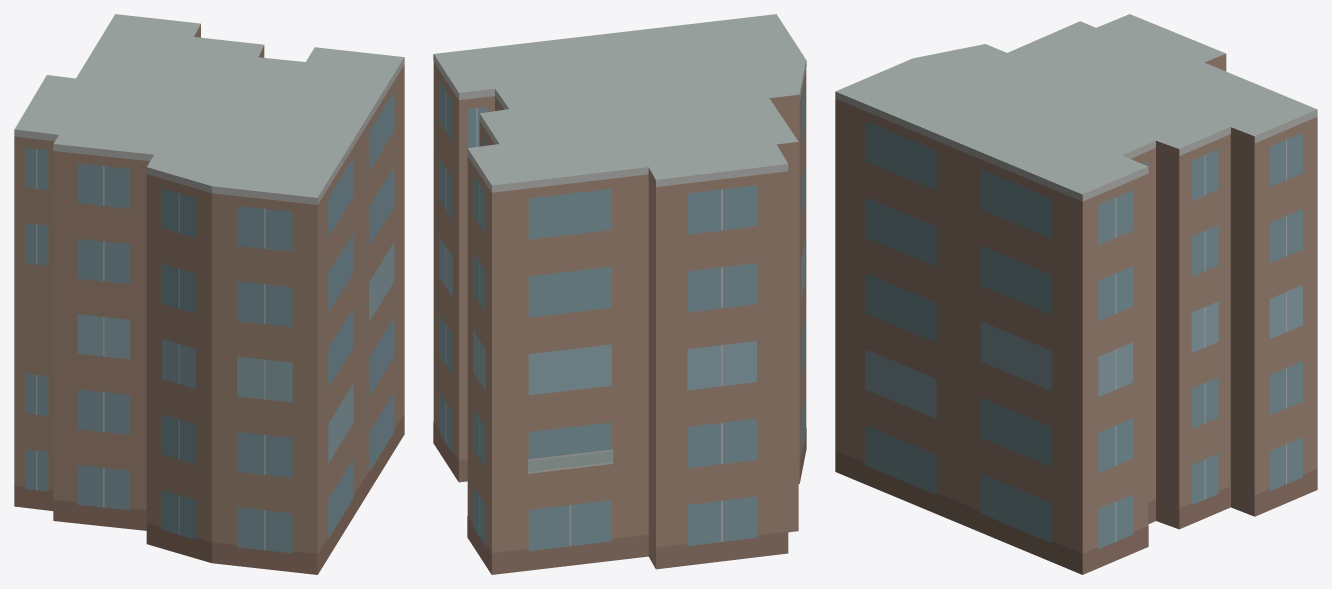
The model's file is survey-upis-32741901.glb.
The picture shows the model from 3 angles, left to right: view 1: azimuth 30°, elevation 25°; view 2: azimuth 150°, elevation 25°; view 3: azimuth 270°, elevation 25°; orthographic projection. The views are drawn at different scales.
Visible parts, largest first — view 1: survey-upis-32741901.tmp; view 2: survey-upis-32741901.tmp; view 3: survey-upis-32741901.tmp.
Part boxes in pixels (box(x1,y1,x2,y2)): survey-upis-32741901.tmp: box(14, 14, 404, 574); survey-upis-32741901.tmp: box(433, 14, 806, 574); survey-upis-32741901.tmp: box(835, 14, 1317, 574).
Size of the model in its own units: 13.35 by 13.1 by 15.07.
